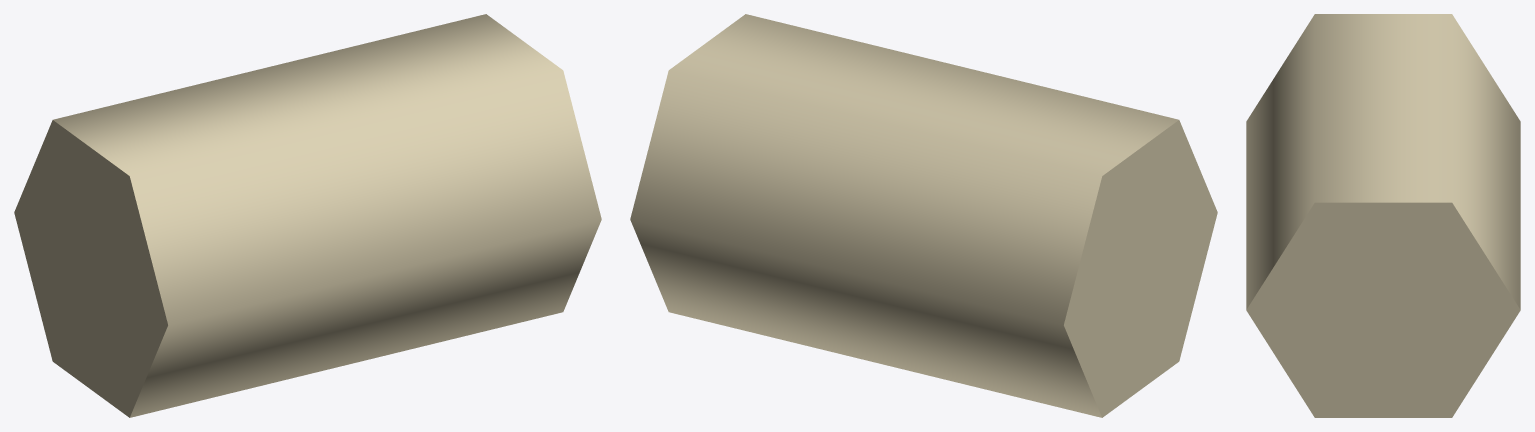
Rendered from hefe_pylon.obj.
The picture shows the model from 3 angles, left to right: view 1: azimuth 30°, elevation 25°; view 2: azimuth 150°, elevation 25°; view 3: azimuth 270°, elevation 25°; orthographic projection. The views are drawn at different scales.
Parts seen in each view (by area): view 1: hefe_pylon; view 2: hefe_pylon; view 3: hefe_pylon.
Boxes of the visible parts, bbox=[...] form: hefe_pylon: bbox=[14, 14, 601, 417]; hefe_pylon: bbox=[630, 14, 1217, 417]; hefe_pylon: bbox=[1246, 14, 1520, 417].
Bounding box in the file's own units: 0.65 × 0.3464 × 0.4.
